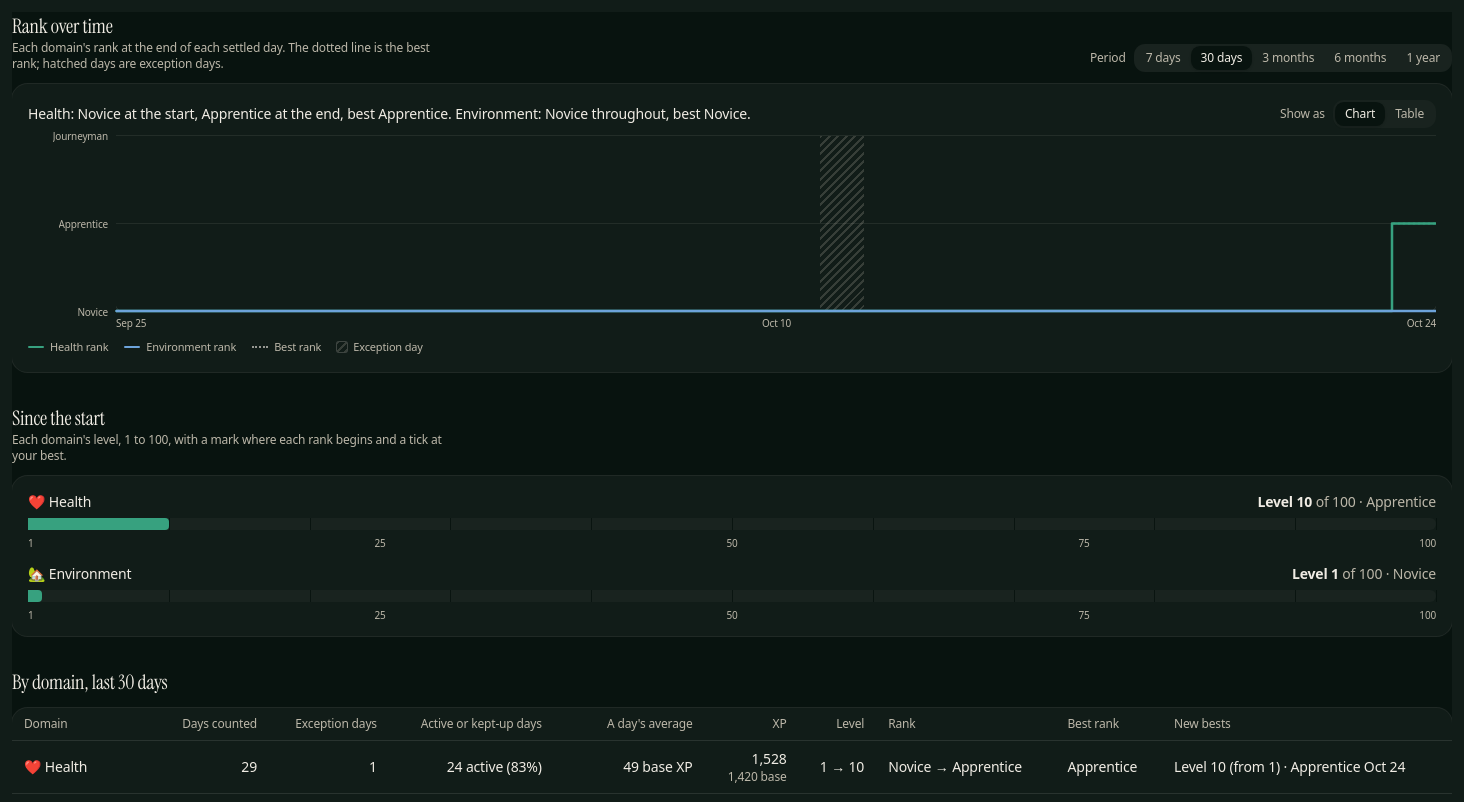
Scenario: Character Reports (xp-domains plan §7.4.10) › lists a rank and a best level reached in the period
Expected: the element with test id "rank-chart" is shown, [116,136,1436,312]
What coordinates should you click on to do the following:
click the button "7 days"
I would click on:
 (1163, 58)
Its box is [1136,46,1191,70].
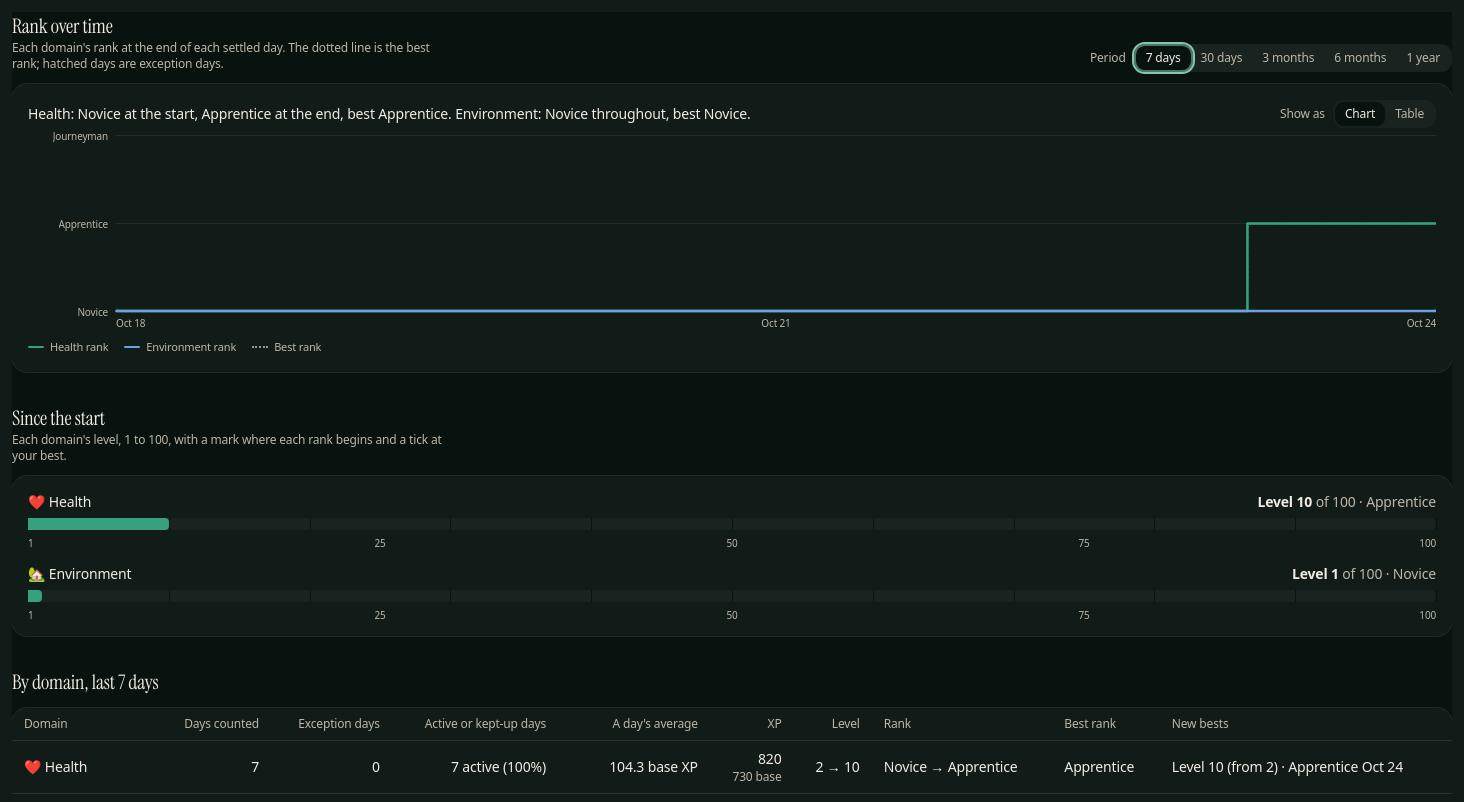
Result: the heading "By domain, last 7 days" is shown at [12,668,158,694]
